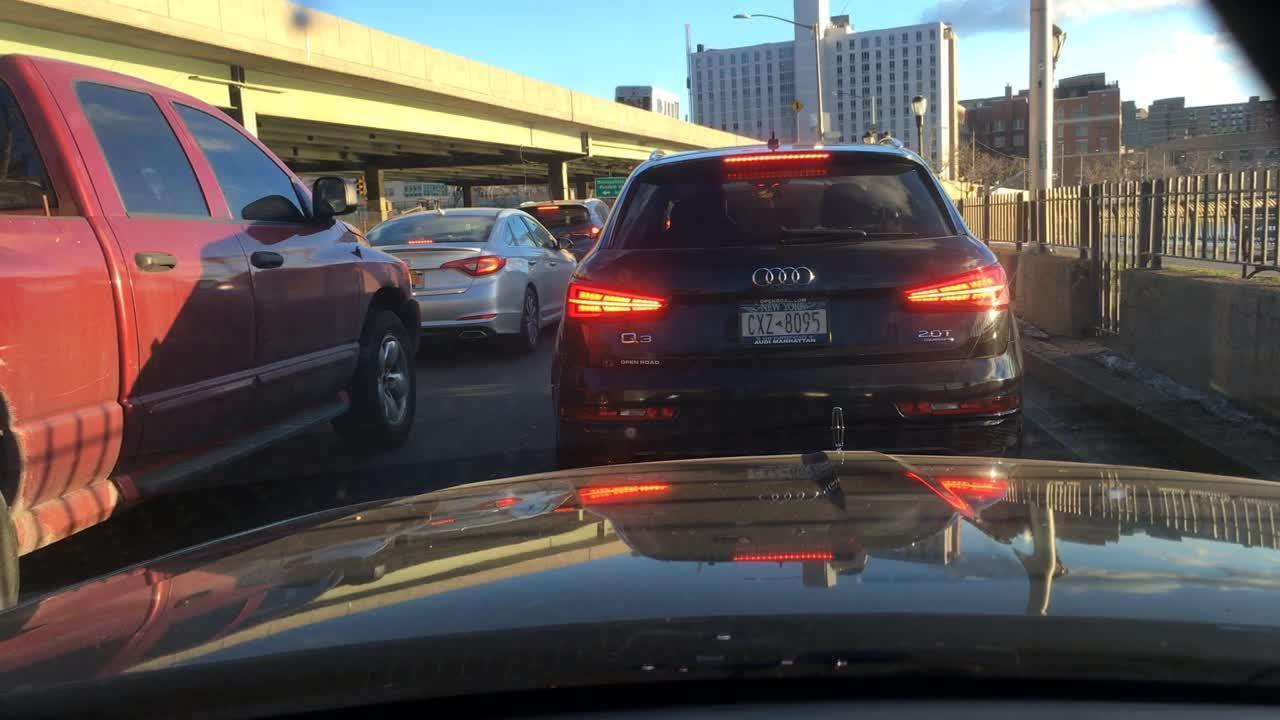Audi: (741, 262, 824, 292)
